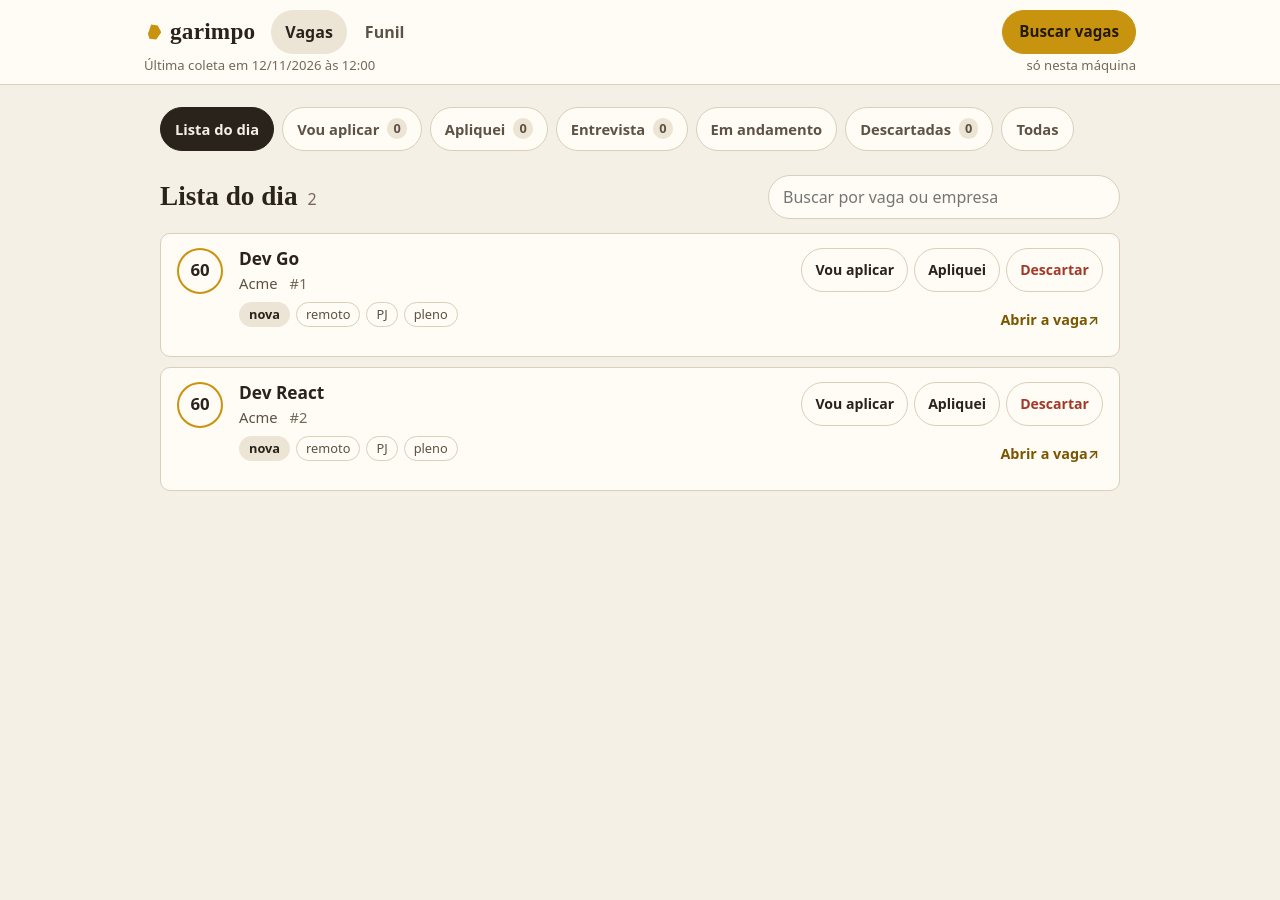
Test: the daily list › marks with one click, takes the posting off the list and lets the person undo
The width and height of the screenshot is (1280, 900).
Click the button "Apliquei" in the row of "Dev Go".
click(957, 270)  # box [914,248,1000,292]
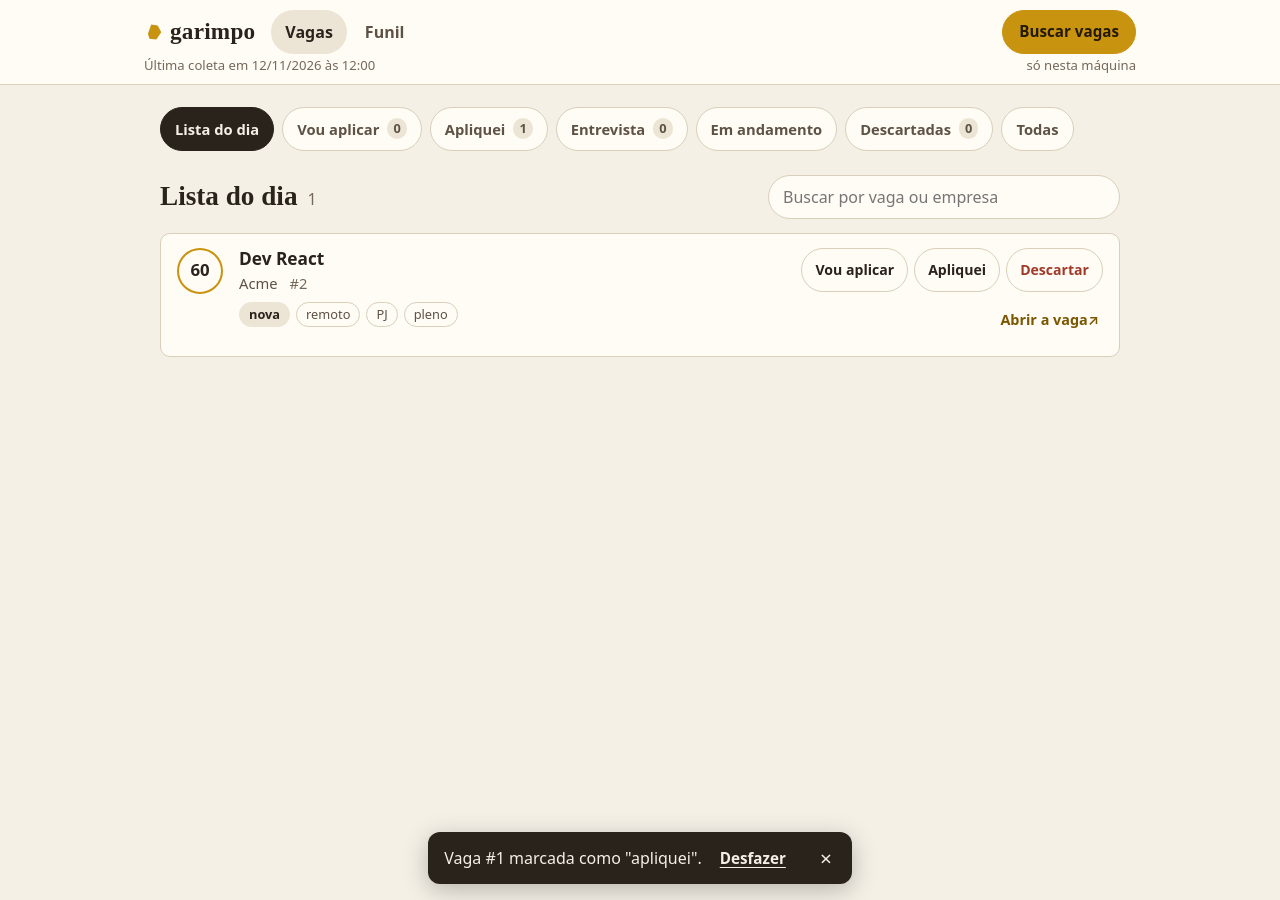
Expected: the text "Vaga #1 marcada como \"apliquei\"." is shown, [444,846,702,870]
Expected: the text "1" next to "Entrevista" is shown, [519,119,527,137]
Click the button "Desfazer".
click(753, 858)  # box [708,836,798,880]
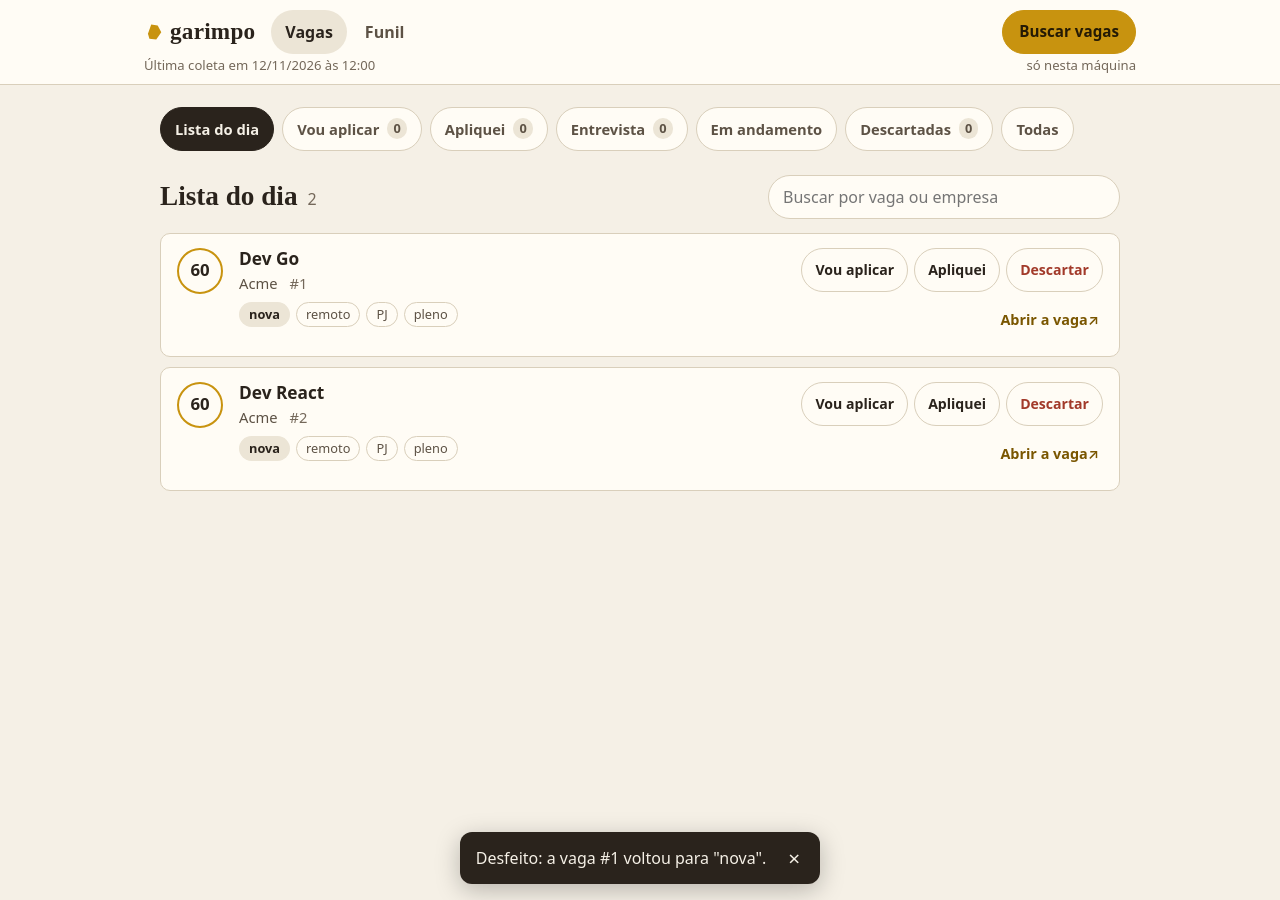
Expected: the heading "Dev Go" is shown, [239,247,299,270]
